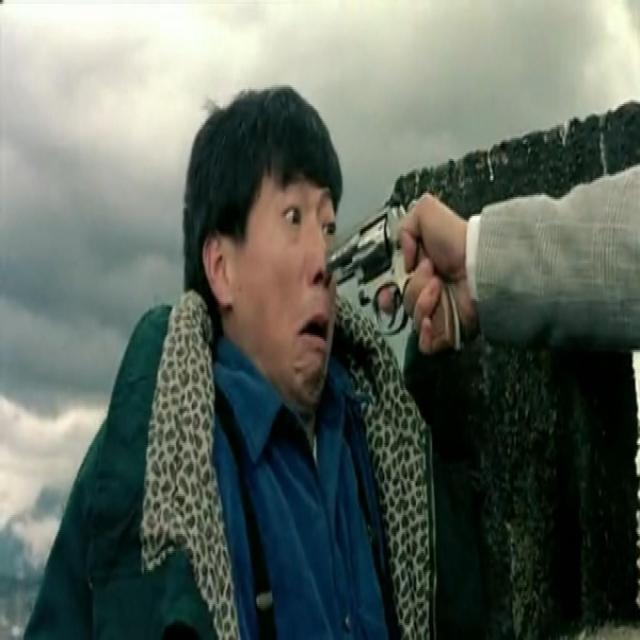weapons: (316, 172, 436, 365)
